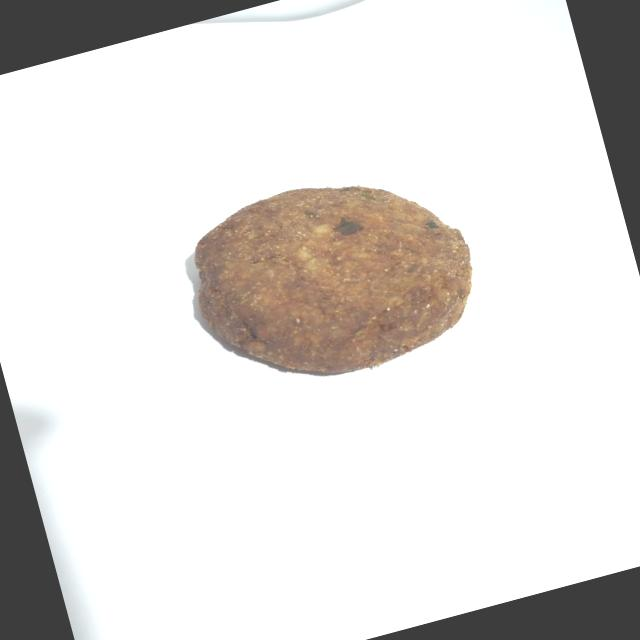Pajagua: (157, 134, 505, 414)
